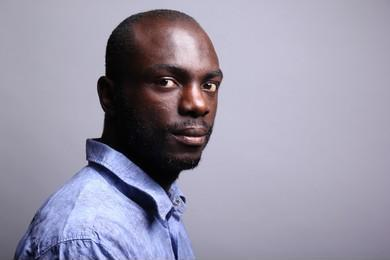face: (126, 26, 226, 170)
